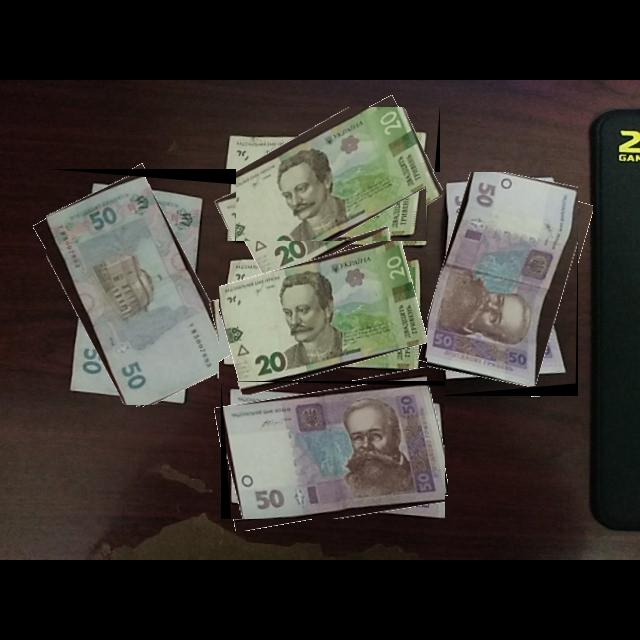20uah: (217, 107, 436, 279), (219, 241, 428, 389)
50uah: (46, 176, 233, 406), (426, 172, 579, 390), (223, 385, 446, 520)
